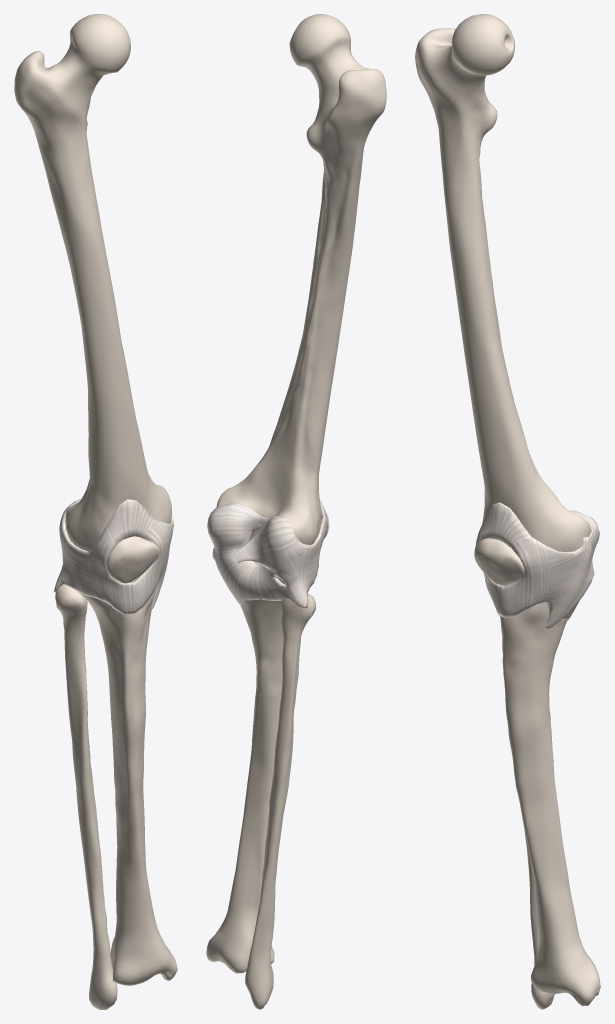
File: knee.glb
3 renders of one model, left to right at view 1: azimuth 30°, elevation 25°; view 2: azimuth 150°, elevation 25°; view 3: azimuth 330°, elevation 25°, orthographic. The views are drawn at different scales.
Visible parts, largest first — view 1: Femur, Tibia, Fibula, Capsule, Patella; view 2: Femur, Tibia, Capsule, Fibula; view 3: Femur, Tibia, Capsule, Patella, Fibula.
Boxes of the visible parts, x1=… form: Femur: x1=14, y1=14, x2=171, y2=551; Tibia: x1=78, y1=577, x2=177, y2=985; Fibula: x1=55, y1=584, x2=117, y2=1009; Capsule: x1=54, y1=499, x2=173, y2=615; Patella: x1=106, y1=536, x2=159, y2=583; Femur: x1=216, y1=14, x2=386, y2=544; Tibia: x1=206, y1=561, x2=300, y2=973; Capsule: x1=207, y1=498, x2=328, y2=608; Fibula: x1=245, y1=594, x2=315, y2=1009; Femur: x1=415, y1=14, x2=590, y2=551; Tibia: x1=500, y1=581, x2=600, y2=1006; Capsule: x1=475, y1=502, x2=599, y2=628; Patella: x1=474, y1=538, x2=524, y2=585; Fibula: x1=524, y1=829, x2=554, y2=1009.
Size of the model in its own units: 0.143 by 0.8268 by 0.0797.
Materials: 7 (1 with a texture image).
